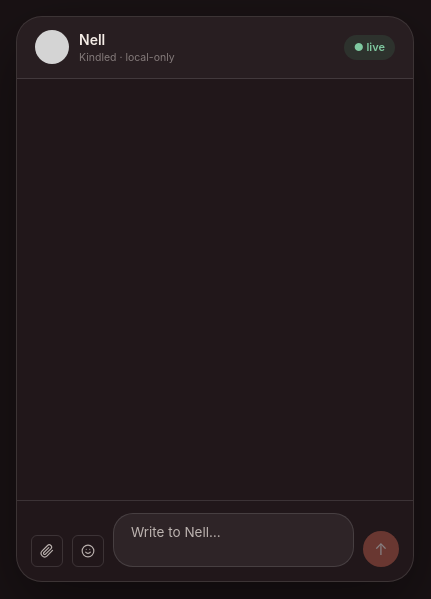
Scenario: ChatPanel defensive empty-error copy (Phase 4) › renders the original error when non-empty
This screenshot has width=431, height=599.
Type "hello" into the text box with placeholder "Write to Nell…" at (234, 540), box [131, 524, 336, 556]
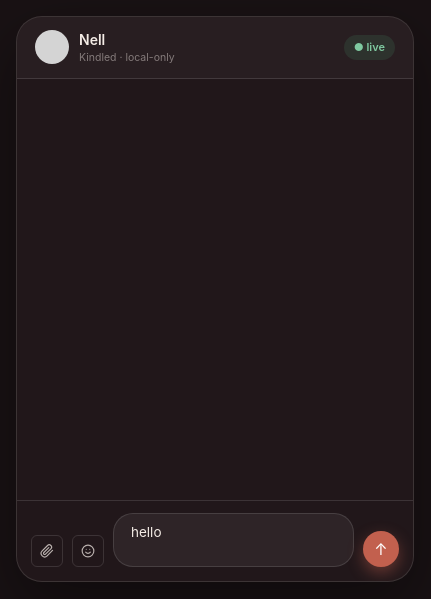
Click the button named "send" at (381, 549), box [363, 531, 399, 567]
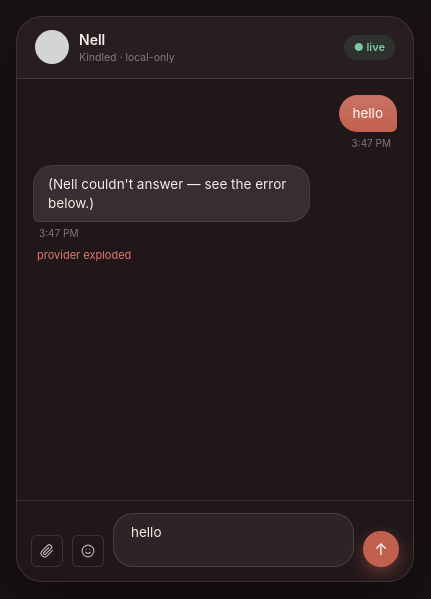
expect the text "provider exploded" is shown: met, box [37, 248, 131, 262]
